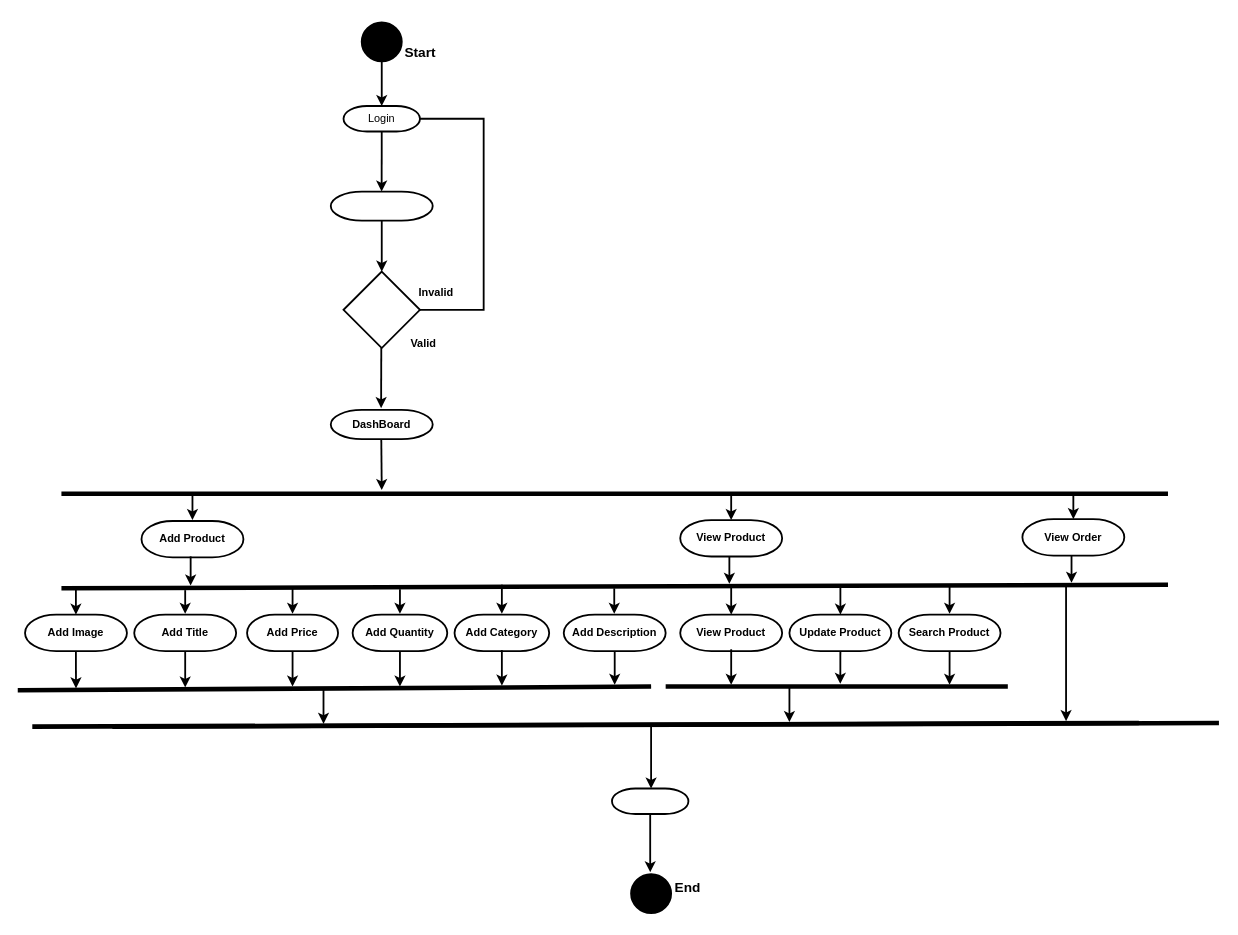
The diagram is 1238 pixels wide and 935 high, and some of its shapes have lost their labels. Each missing label, with the centre of its shape:
"Authentication" goes at point (381, 205).
"Check" goes at point (381, 309).
"Log Out" goes at point (650, 800).
